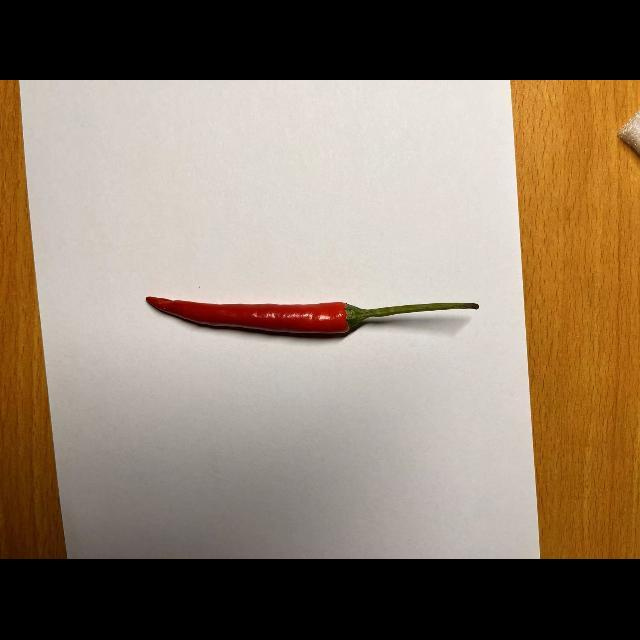chili_pepper: (140, 282, 486, 342)
